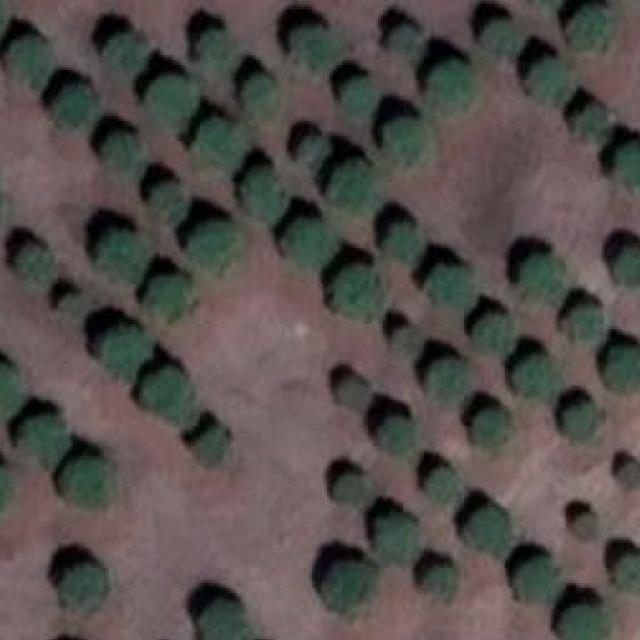Tree: (91, 321, 158, 370), (137, 362, 193, 418), (137, 73, 193, 127), (560, 4, 616, 58), (183, 218, 239, 272), (2, 34, 56, 89), (276, 212, 332, 263), (58, 454, 109, 508), (418, 354, 468, 408), (334, 263, 383, 317), (322, 552, 371, 606), (368, 512, 422, 561), (427, 58, 472, 112), (198, 116, 244, 166), (236, 68, 281, 119), (427, 261, 472, 312), (282, 22, 331, 68), (99, 224, 144, 274), (53, 82, 98, 131), (332, 158, 376, 208), (7, 232, 51, 282), (376, 220, 421, 268), (383, 119, 429, 164), (513, 350, 557, 395), (244, 167, 284, 216), (520, 253, 564, 297), (464, 405, 510, 446), (560, 603, 610, 640), (99, 129, 144, 170), (528, 53, 569, 98), (147, 273, 191, 314), (20, 416, 61, 459), (483, 17, 523, 61), (459, 507, 505, 545), (104, 30, 147, 70), (371, 416, 414, 456), (192, 24, 231, 68), (337, 73, 376, 117), (559, 301, 604, 339), (515, 553, 554, 596), (608, 139, 640, 190), (471, 312, 510, 352), (190, 426, 229, 466), (200, 601, 239, 640), (60, 563, 98, 603), (386, 27, 422, 68), (568, 101, 606, 139), (429, 461, 464, 502), (332, 469, 371, 505), (606, 347, 640, 388), (559, 400, 594, 439), (149, 180, 183, 215), (611, 242, 640, 281), (332, 375, 366, 408), (0, 362, 25, 406), (569, 507, 602, 540), (613, 549, 640, 587), (419, 566, 452, 596), (299, 136, 327, 167), (393, 326, 422, 355), (619, 458, 640, 486), (0, 464, 12, 510), (56, 293, 81, 312)
